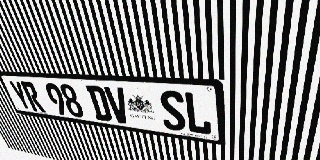8: (58, 83, 85, 118)
9: (43, 83, 70, 116)
D: (85, 85, 113, 122)
L: (183, 91, 212, 136)
R: (20, 81, 46, 113)
S: (158, 90, 187, 132)
V: (104, 86, 132, 124)
Y: (8, 80, 33, 111)
